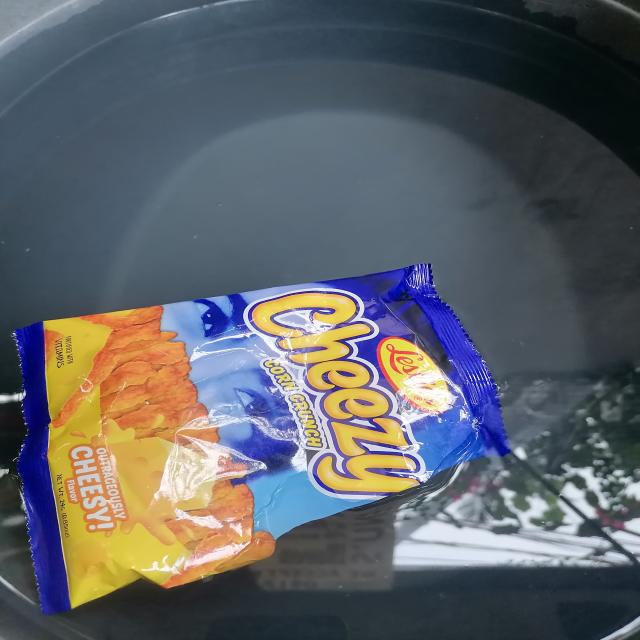Plastic Wrapper: (16, 264, 509, 613)
